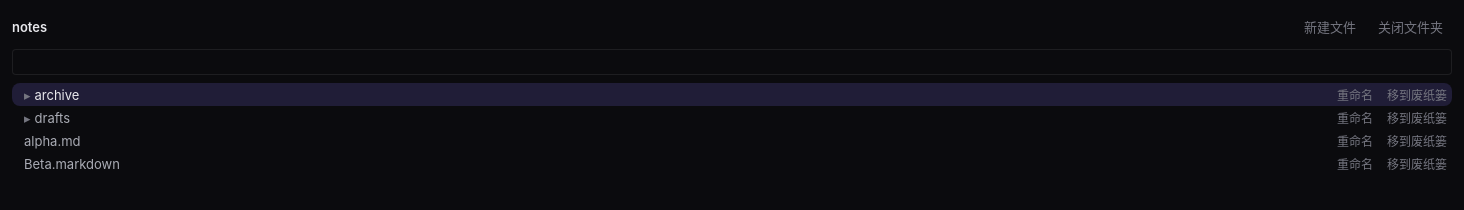
FileSidebar › expanding one directory requests only that directory and collapsing keeps the cache
Step 1. Click the list item "drafts" → (52, 118), box [12,106,1452,129]
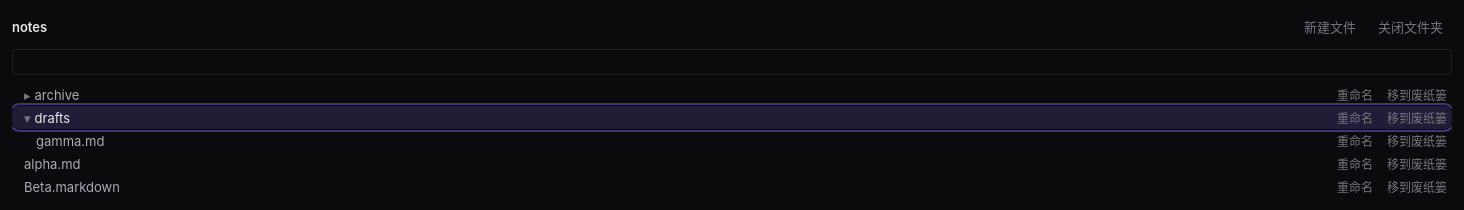
Expected: the list item "gamma.md" is shown, [12,129,1452,152]
Expected: the list item "drafts" is expanded
Step 2. Click the list item "drafts" → (732, 118), box [12,106,1452,129]
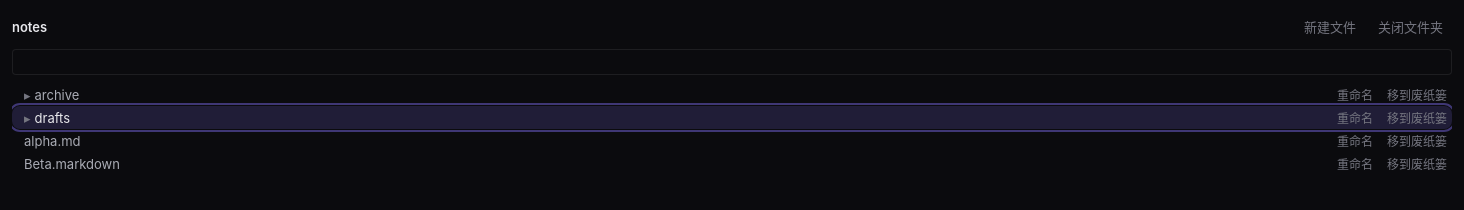
Expected: the text "gamma.md" is gone
Step 3. Click the list item "drafts" → (732, 118), box [12,106,1452,129]
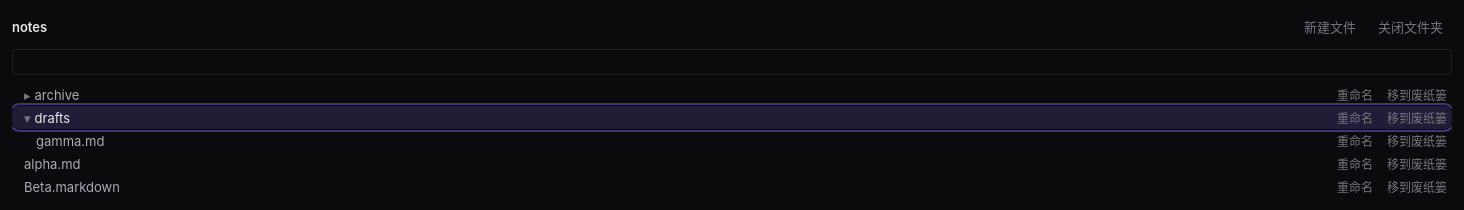
Expected: the list item "gamma.md" is shown, [12,129,1452,152]
